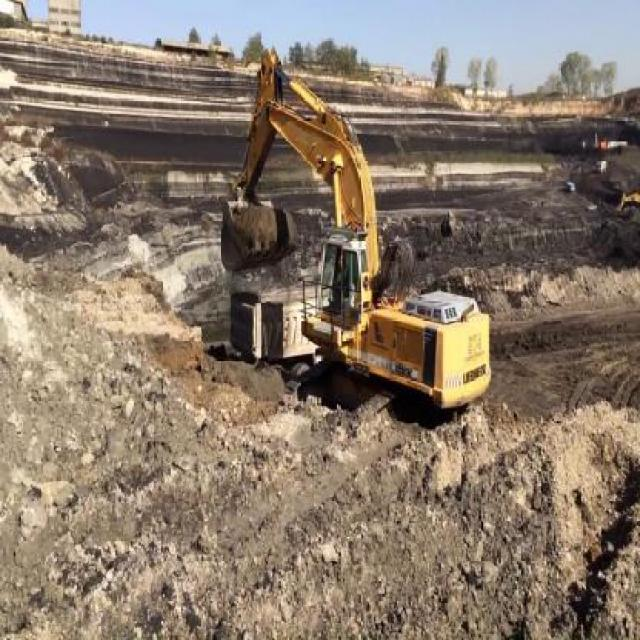Dump Truck: (228, 274, 330, 380)
Excavator: (218, 43, 494, 425)
